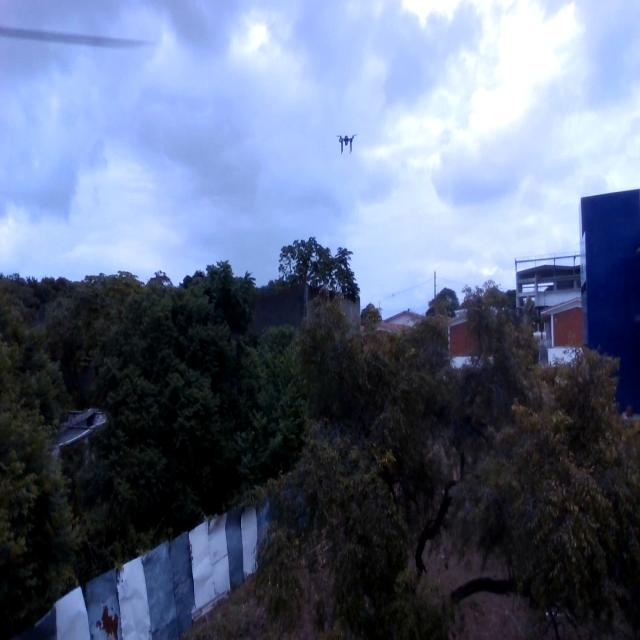-uav-: (330, 124, 362, 169)
